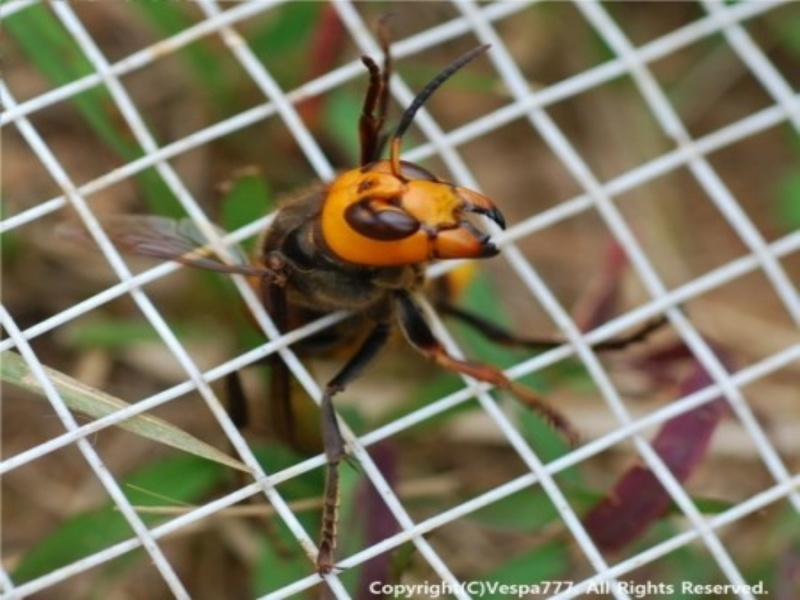asian_giant_hornet: (130, 56, 620, 387)
